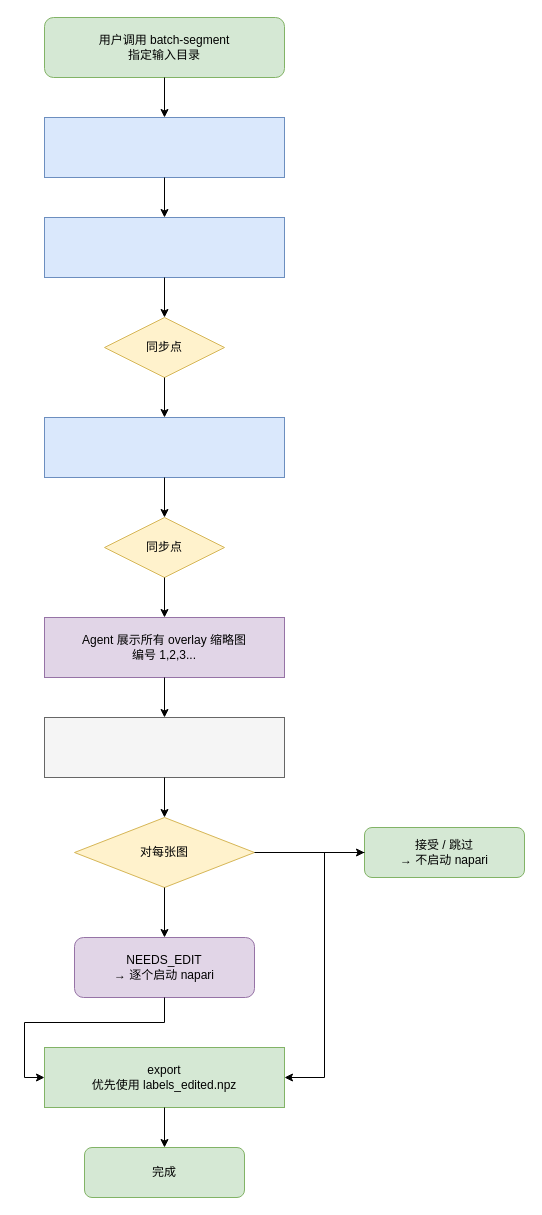
Image size: 542x1215. Some labels were removed from this diagram. The centre of each missing label's shape, as x and y in pixels:
ingest 批量读入所有 figure: pixel 164 147
PARALLEL classify_all Agent Read-only，无并发限制: pixel 164 247
PARALLEL segment_all 最多 5 并发（内存限制）: pixel 164 447
用户批量指令 "1,3 接受；2,5 修改；4 跳过": pixel 164 747
